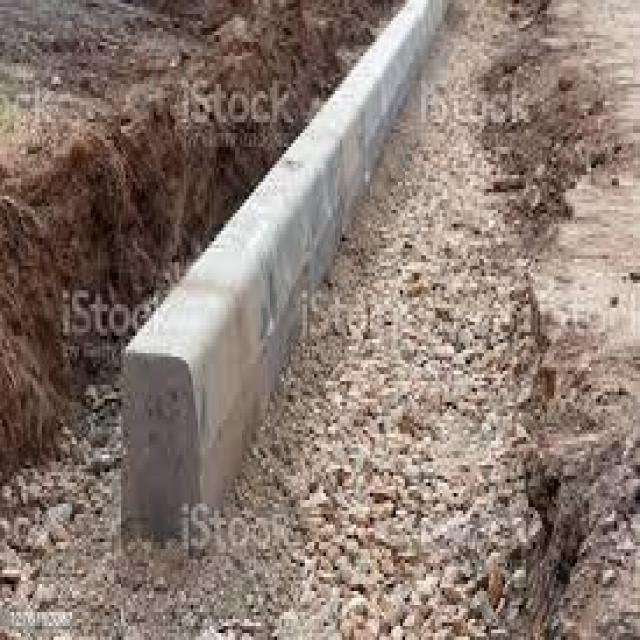curb: (119, 1, 448, 543)
